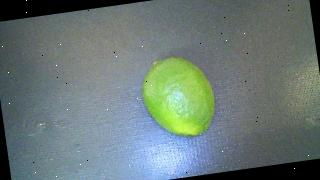EXPORTACION: (138, 52, 219, 142)
